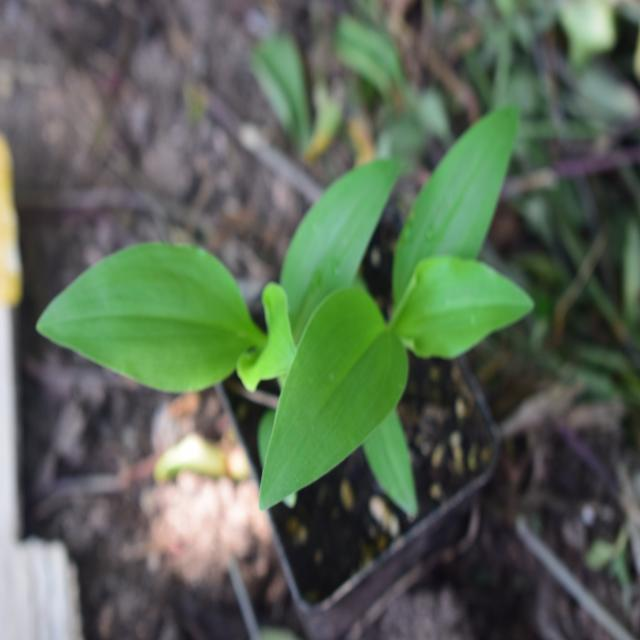Common Dayflower: (236, 78, 539, 504), (48, 226, 248, 415)
